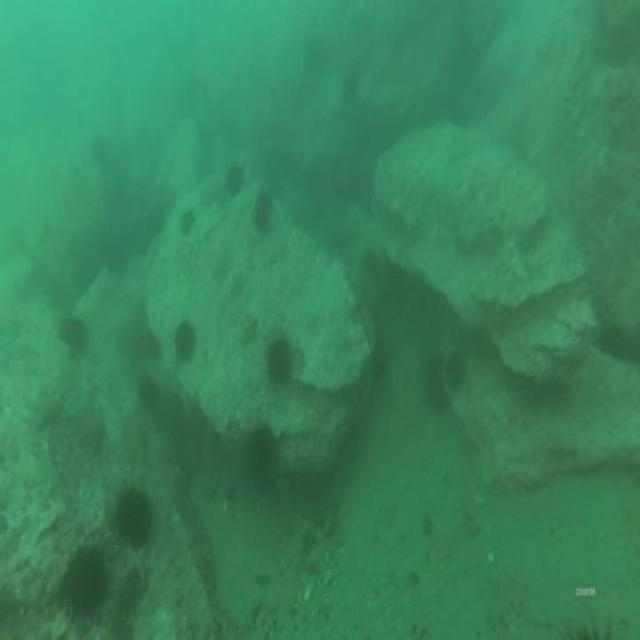echinus: (59, 551, 105, 610), (116, 487, 146, 542), (245, 425, 274, 473), (426, 351, 446, 406), (265, 340, 291, 378), (57, 319, 85, 348), (172, 324, 194, 359), (252, 191, 274, 226), (340, 70, 361, 104), (446, 350, 464, 386), (180, 207, 198, 235), (138, 378, 156, 403), (230, 166, 244, 193)
starfish: (78, 409, 106, 447), (42, 400, 62, 422)
